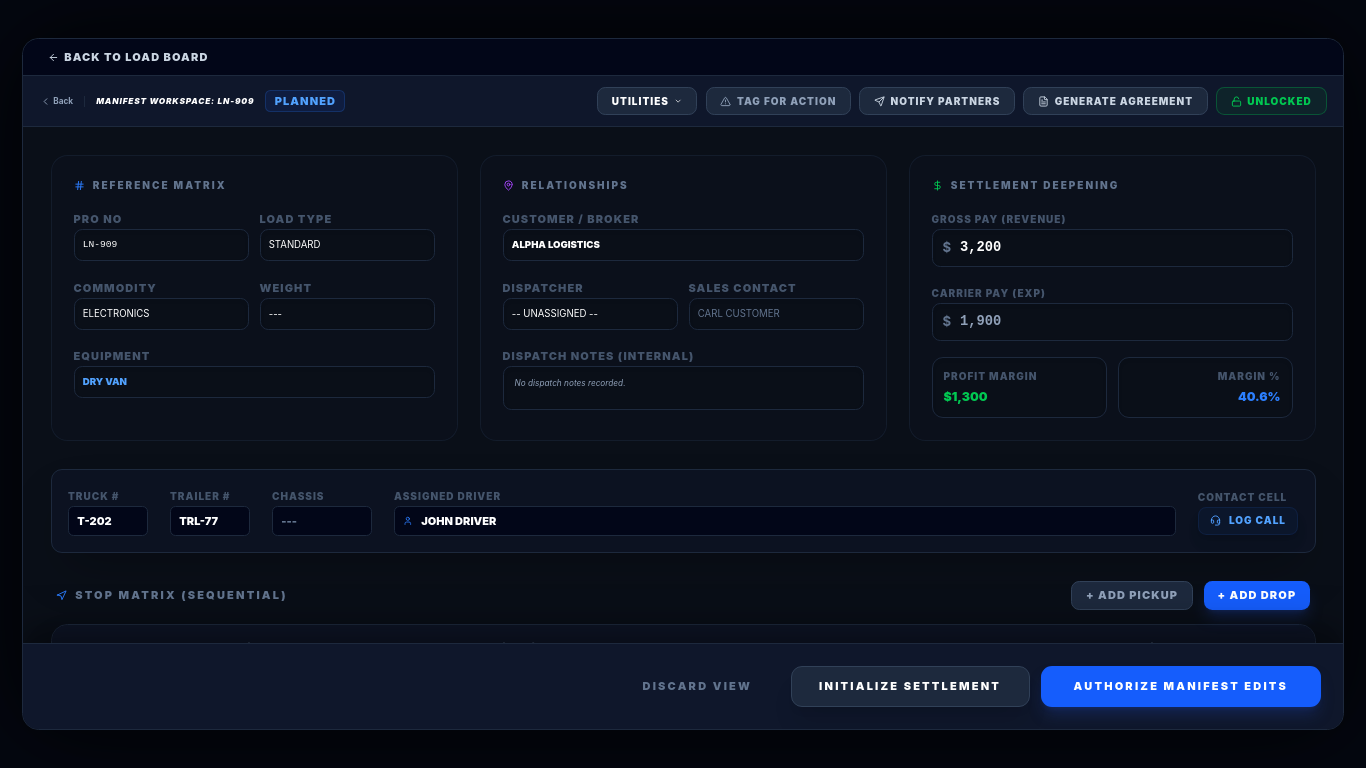
Scenario: LoadDetailView Generate Agreement button (STORY-009 Phase 9) › shows a success toast after successful POST
Click the button "Generate Agreement" at (1116, 101), box left=1023, top=87, right=1208, bottom=115
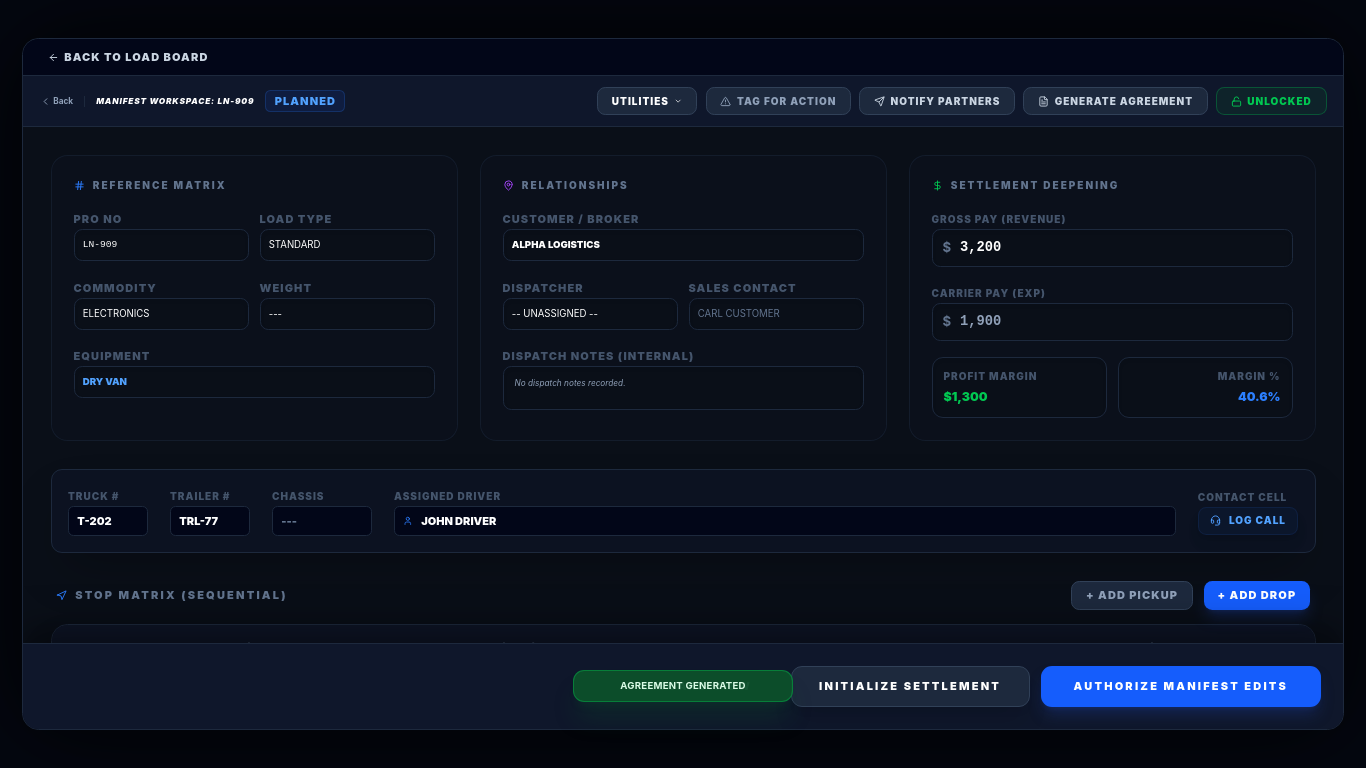
Check: the text "Agreement generated" is shown, box left=573, top=670, right=793, bottom=702
